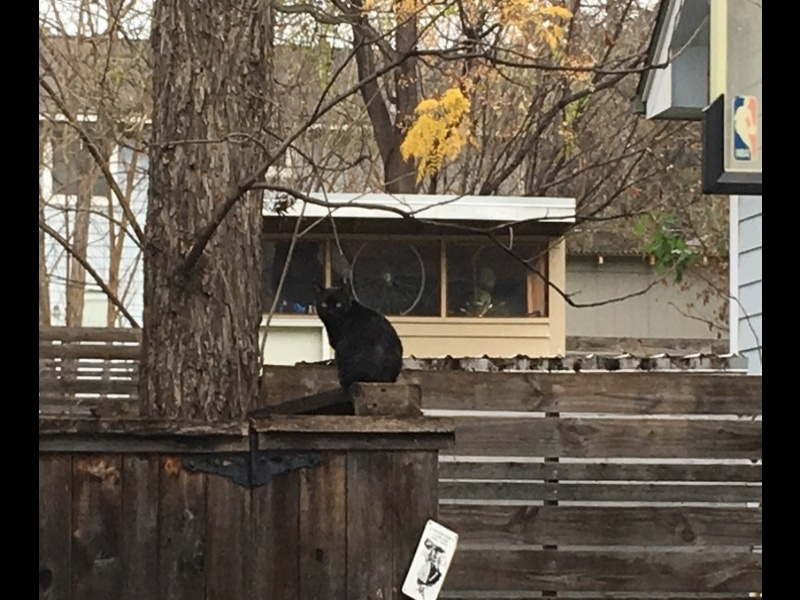cat: (309, 278, 407, 383)
